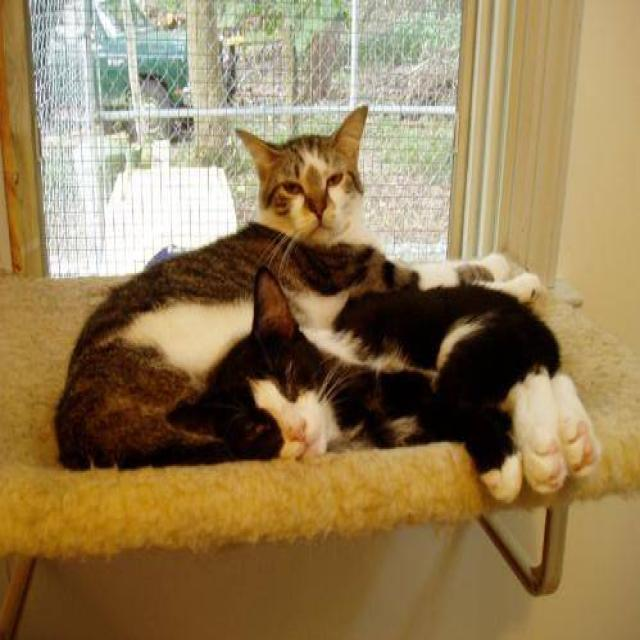cat: (151, 237, 606, 525), (60, 105, 382, 473)
